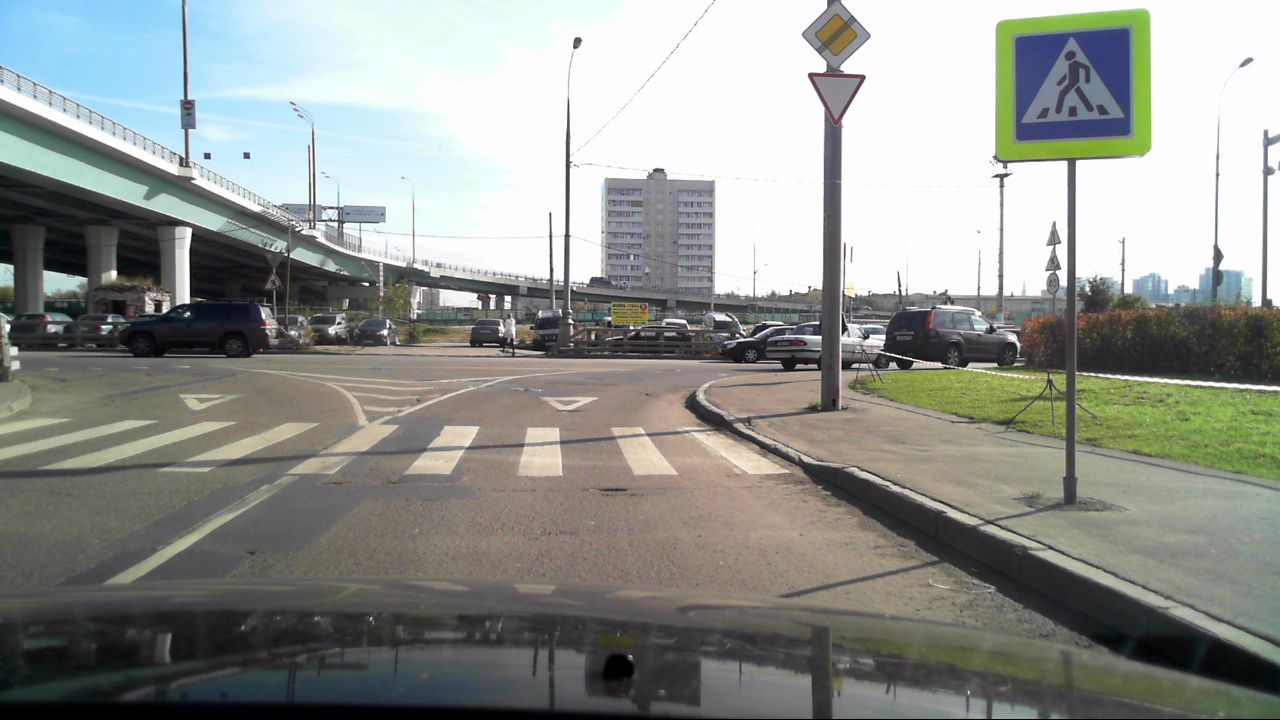main road: (802, 0, 871, 70)
